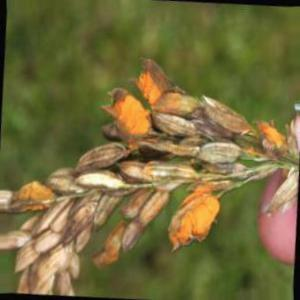Leaf_Scald: (176, 190, 221, 252), (106, 101, 162, 137), (18, 186, 49, 218), (136, 66, 165, 99), (258, 116, 286, 150)
